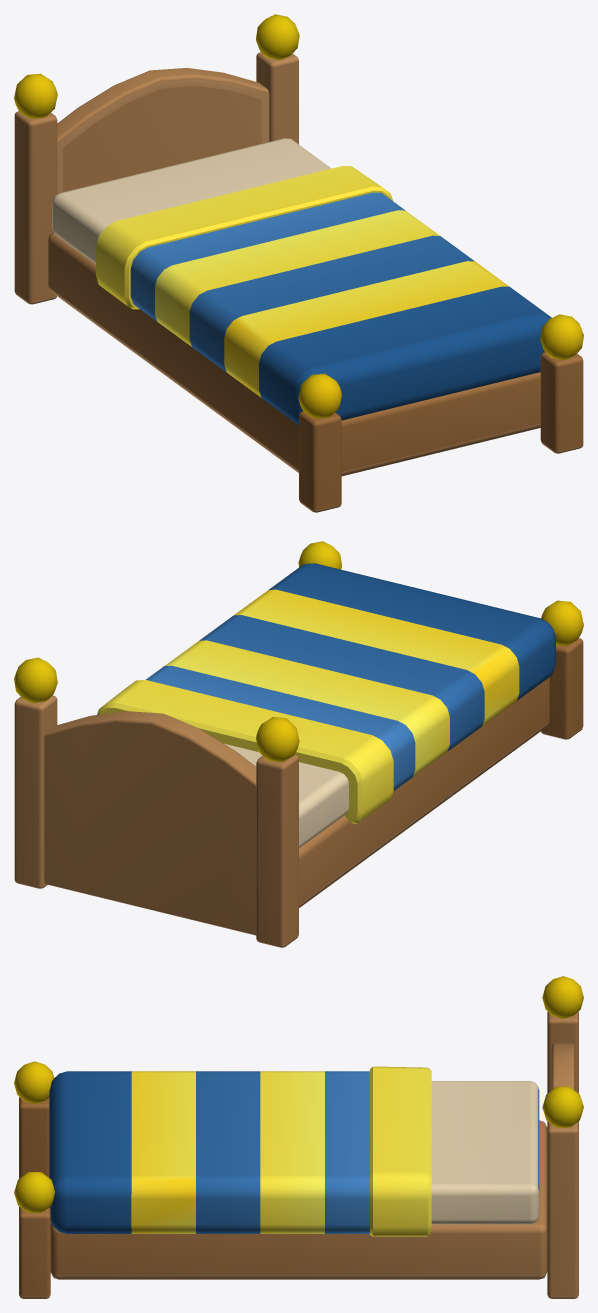
The model's file is Single Bed_12.glb.
3 renders of one model, top to bottom at view 1: azimuth 30°, elevation 25°; view 2: azimuth 150°, elevation 25°; view 3: azimuth 270°, elevation 25°, orthographic. The views are drawn at different scales.
Visible parts, largest first — view 1: Single Bed_12; view 2: Single Bed_12; view 3: Single Bed_12.
Boxes of the visible parts, <box> form: Single Bed_12: <box>14,14,583,512</box>; Single Bed_12: <box>14,541,583,947</box>; Single Bed_12: <box>14,976,583,1298</box>.
Size of the model in its own units: 1.11 by 0.8491 by 2.12.
1 material, 1 textured.
